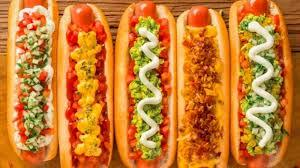Completos: (57, 0, 124, 168), (0, 0, 60, 168), (231, 0, 290, 168), (178, 0, 230, 168)
